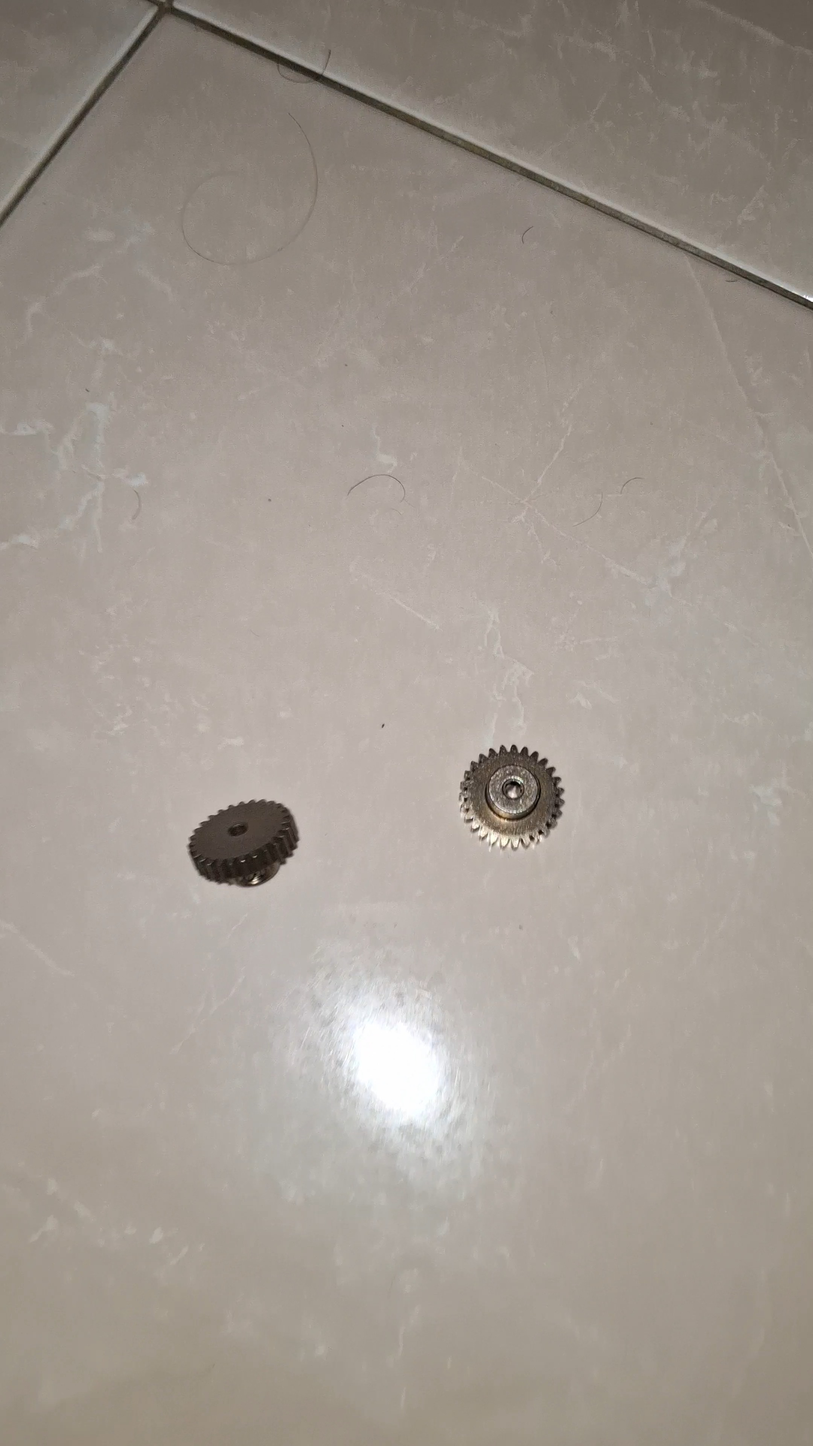spur gear: (460, 745, 563, 848), (189, 801, 298, 886)
